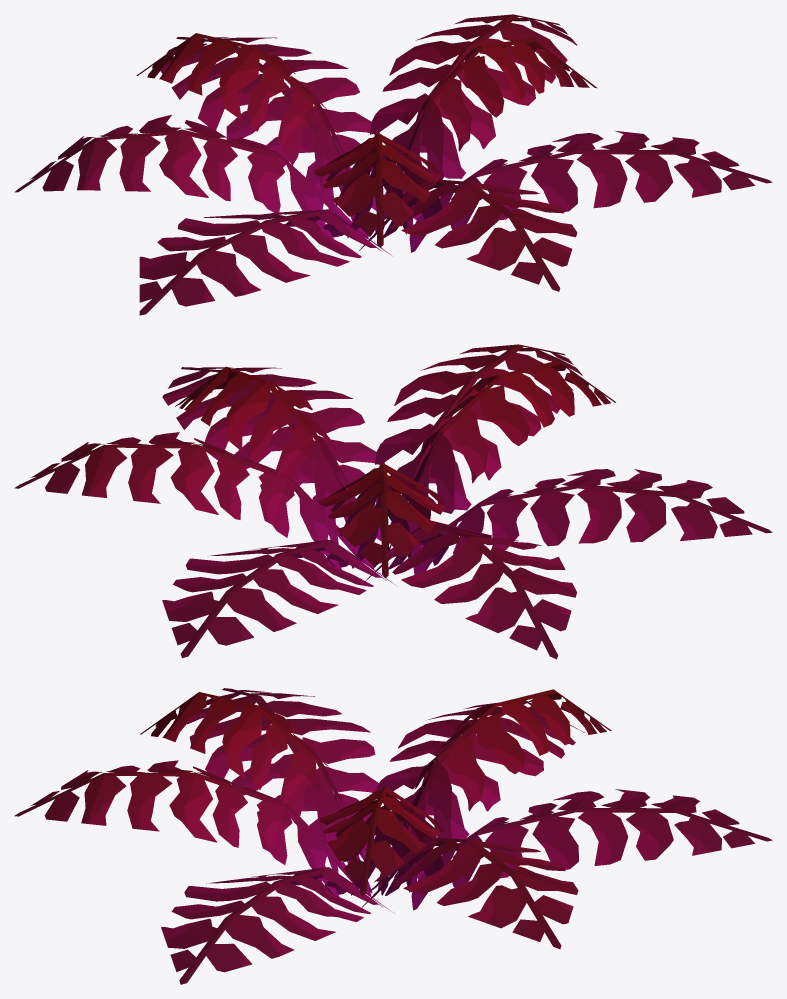
File: synty-plant-fern-leaves-01.gltf
The picture shows the model from 3 angles, top to bottom: view 1: azimuth 30°, elevation 25°; view 2: azimuth 150°, elevation 25°; view 3: azimuth 270°, elevation 25°; orthographic projection.
Parts seen in each view (by area): view 1: SM_Plant_Fern_Leaves_01; view 2: SM_Plant_Fern_Leaves_01; view 3: SM_Plant_Fern_Leaves_01.
Boxes of the visible parts, x1,y1,x2,y2 form: SM_Plant_Fern_Leaves_01: [14, 14, 772, 315]; SM_Plant_Fern_Leaves_01: [14, 344, 772, 659]; SM_Plant_Fern_Leaves_01: [14, 688, 772, 984].
Bounding box in the file's own units: 1.29 × 0.3399 × 1.4.
Materials: 1 (1 with a texture image).
